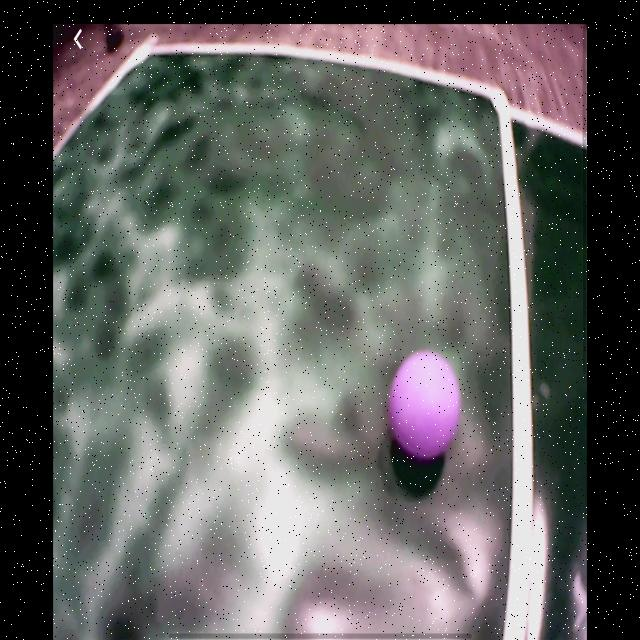ball: (387, 353, 464, 459)
